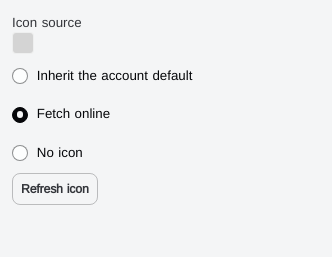
Test: FaviconSourceControl (bookmark inspector) › FO-03: a failed refresh job stops polling and shows the last-icon notice
This screenshot has width=332, height=257.
What coordinates should you click on to do the following:
click the button with test id "favicon-source-refresh"
I would click on:
 (55, 189)
Its box is [12,173,98,205].
Wait 2000 ms
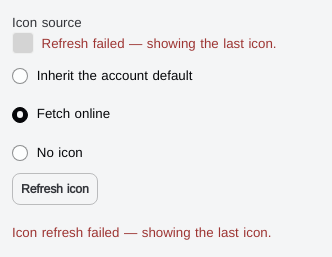
expect the message "Icon refresh failed — showing the last icon." is shown: met, box [12,224,271,240]
